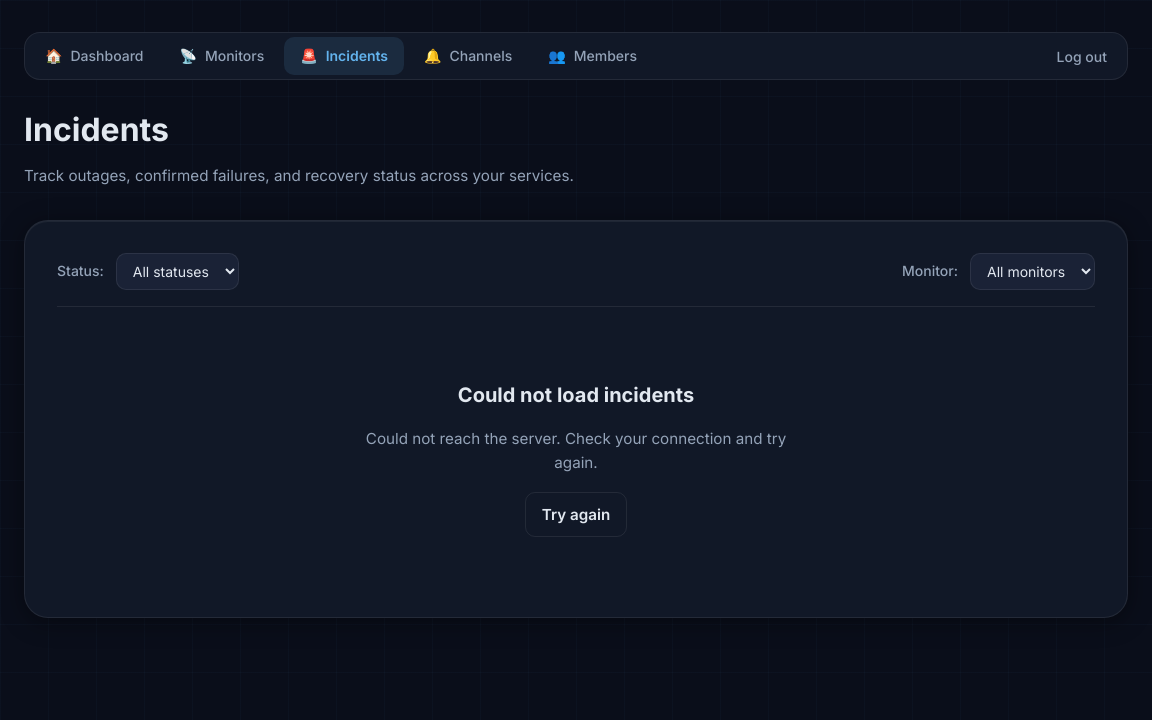
Test: IncidentsPage › displays error state and allows retry
Expected: the message is shown, [366,383,786,536]
Expected: the heading "Could not load incidents" is shown, [458,379,694,411]
// Click Try again
Click the button "Try again" at (576, 514), box [525,492,627,536]
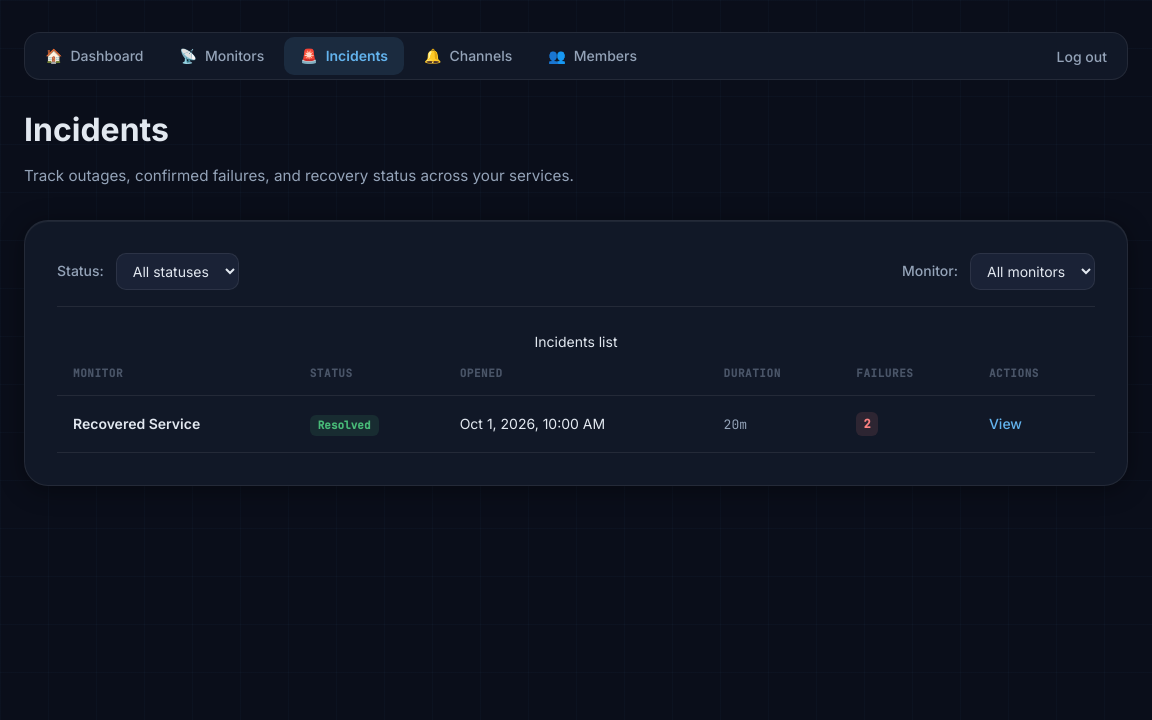
Result: the link "Recovered Service" is shown at [73,415,200,432]
